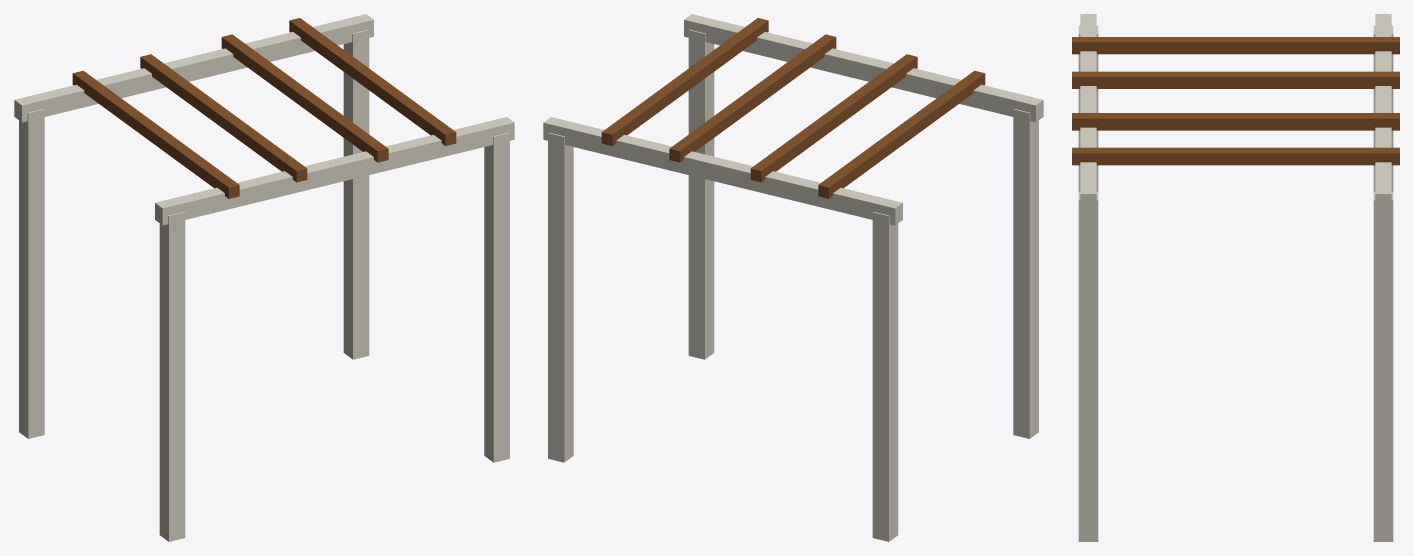
File: patio_pergola.glb
The picture shows the model from 3 angles, left to right: view 1: azimuth 30°, elevation 25°; view 2: azimuth 150°, elevation 25°; view 3: azimuth 270°, elevation 25°; orthographic projection. The views are drawn at different scales.
Visible parts, largest first — view 1: pergola; view 2: pergola; view 3: pergola.
Boxes of the visible parts, x1,y1,x2,y2 form: pergola: (14, 14, 514, 541); pergola: (543, 14, 1043, 541); pergola: (1072, 14, 1399, 541).
Size of the model in its own units: 2.6 by 2.42 by 2.
